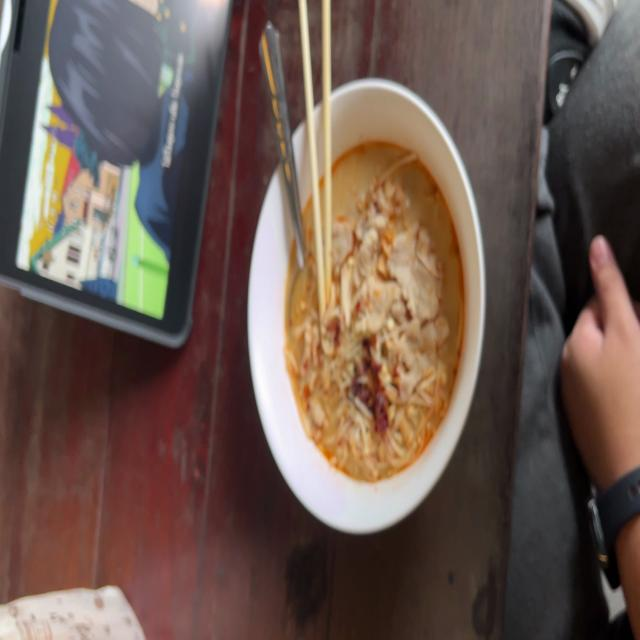noodle: (257, 76, 490, 532)
